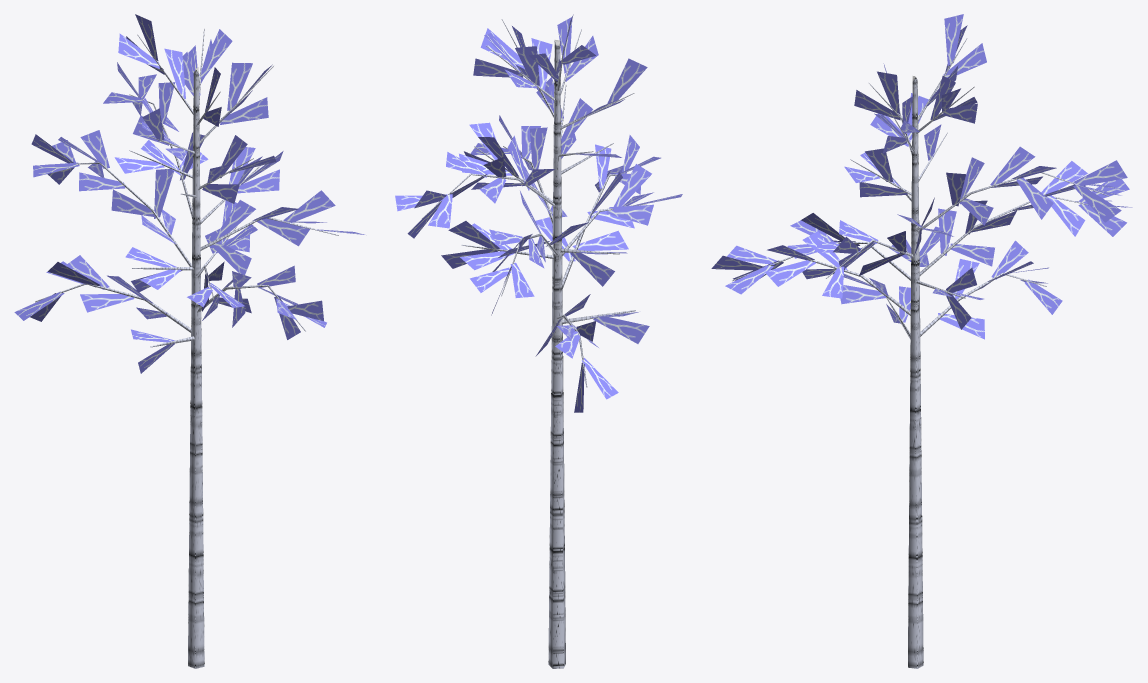
File: Birch_02.fbx
The picture shows the model from 3 angles, left to right: view 1: azimuth 30°, elevation 25°; view 2: azimuth 150°, elevation 25°; view 3: azimuth 270°, elevation 25°; orthographic projection. The views are drawn at different scales.
Visible parts, largest first — view 1: LOD0; view 2: LOD0; view 3: LOD0.
Part boxes in pixels (x1,y1,x2,y2): LOD0: [14, 14, 364, 668]; LOD0: [395, 14, 682, 668]; LOD0: [711, 14, 1132, 668].
Size of what is drawn, in the model's own units: 215 by 552 by 333.
